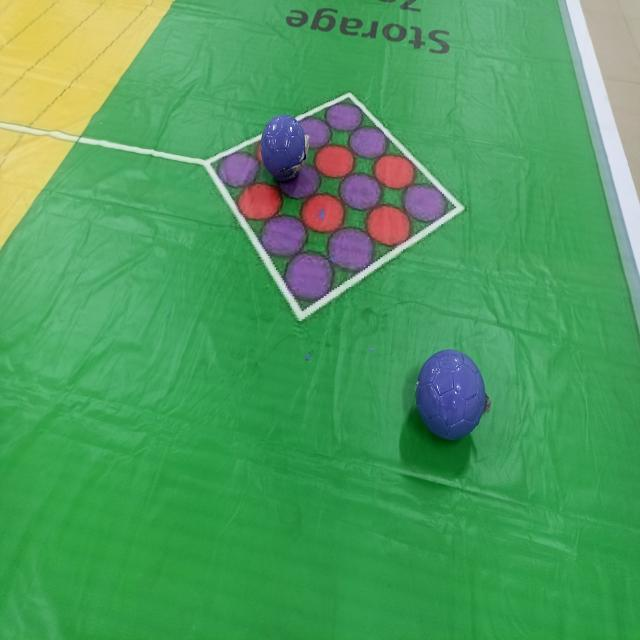purple_ball: (413, 348, 486, 444), (260, 113, 309, 179)
